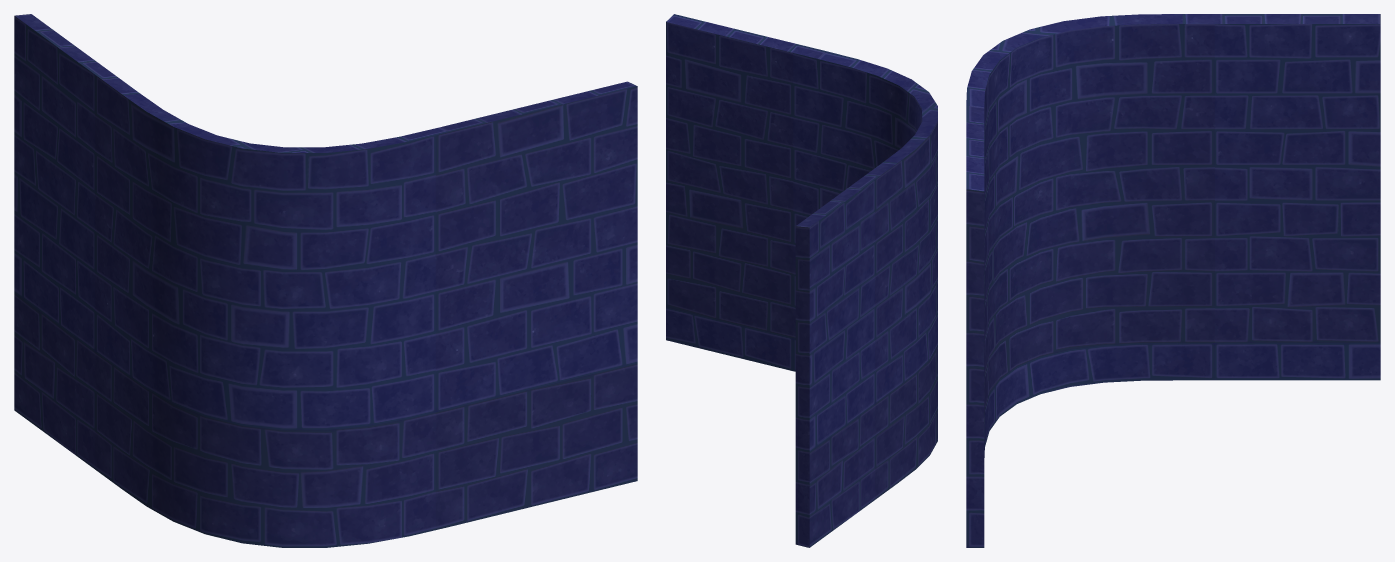
Rendered from hub_wall_rounded_corner.fbx.
3 views of the same model, side by side, from view 1: azimuth 30°, elevation 25°; view 2: azimuth 150°, elevation 25°; view 3: azimuth 270°, elevation 25° (orthographic). The views are drawn at different scales.
Visible parts, largest first — view 1: brick_wall_corner_; view 2: brick_wall_corner_; view 3: brick_wall_corner_.
Boxes of the visible parts, left/top/right/bottom form: brick_wall_corner_: left=14, top=14, right=637, bottom=547; brick_wall_corner_: left=666, top=14, right=937, bottom=547; brick_wall_corner_: left=966, top=14, right=1380, bottom=547.
Size of the model in its own units: 23.56 by 22.5 by 23.56.
Materials: 1 (1 with a texture image).
